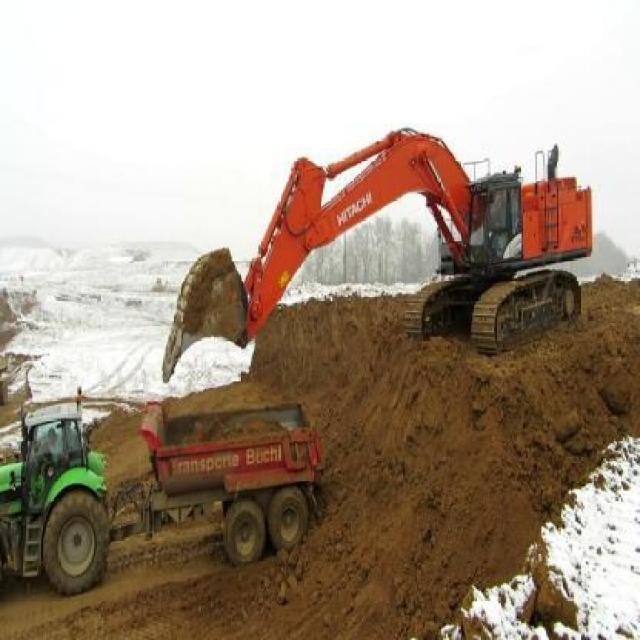Dump Truck: (0, 386, 323, 602)
Excavator: (160, 125, 592, 382)
